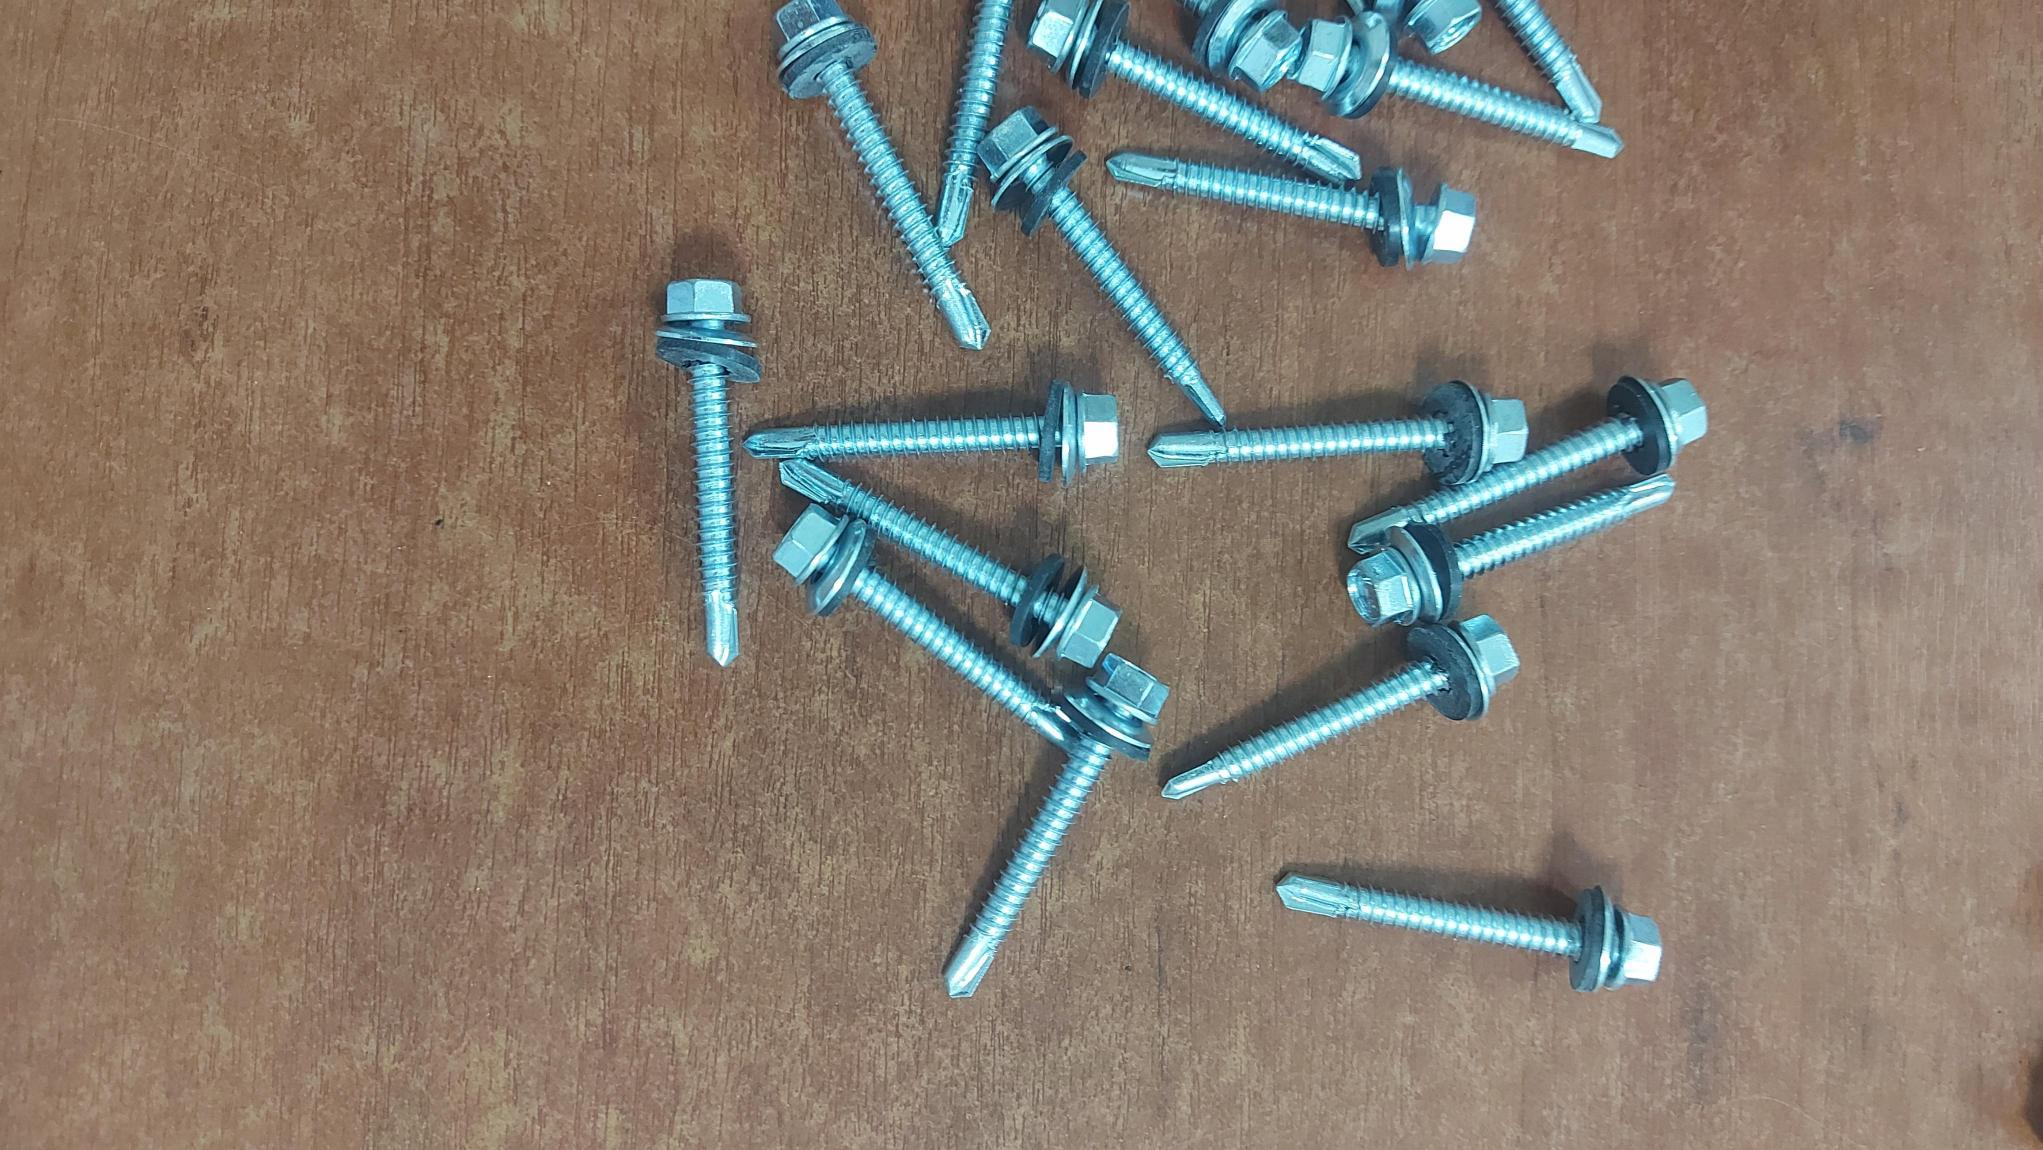Screw: (979, 108, 1225, 425), (772, 502, 1080, 753), (944, 655, 1167, 997), (775, 460, 1123, 669), (1165, 620, 1522, 805), (1348, 377, 1706, 551), (1347, 474, 1673, 624), (1299, 13, 1622, 157), (1275, 874, 1661, 992), (1107, 153, 1475, 266), (669, 282, 769, 672), (1148, 381, 1527, 484), (746, 390, 1114, 484)
